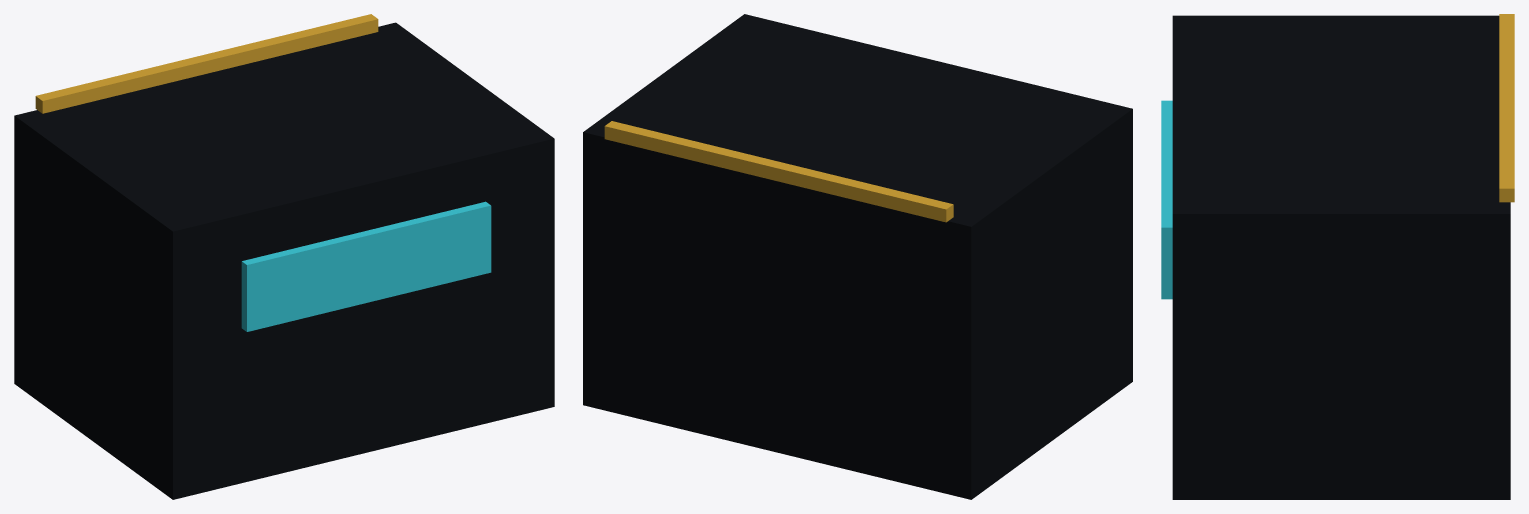
The model's file is cover.tall_machine.glb.
The picture shows the model from 3 angles, left to right: view 1: azimuth 30°, elevation 25°; view 2: azimuth 150°, elevation 25°; view 3: azimuth 270°, elevation 25°; orthographic projection. The views are drawn at different scales.
Parts seen in each view (by area): view 1: machine_cover, control_glow, warning_bar; view 2: machine_cover, warning_bar; view 3: machine_cover, warning_bar, control_glow.
Part boxes in pixels (x1=…): machine_cover: x1=14, y1=22, x2=554, y2=499; control_glow: x1=241, y1=201, x2=491, y2=331; warning_bar: x1=35, y1=14, x2=378, y2=113; machine_cover: x1=583, y1=14, x2=1132, y2=499; warning_bar: x1=604, y1=121, x2=953, y2=222; machine_cover: x1=1172, y1=15, x2=1510, y2=499; warning_bar: x1=1499, y1=14, x2=1514, y2=202; control_glow: x1=1161, y1=100, x2=1172, y2=299.
Bounding box in the file's own units: 2.5 × 1.76 × 1.88.
